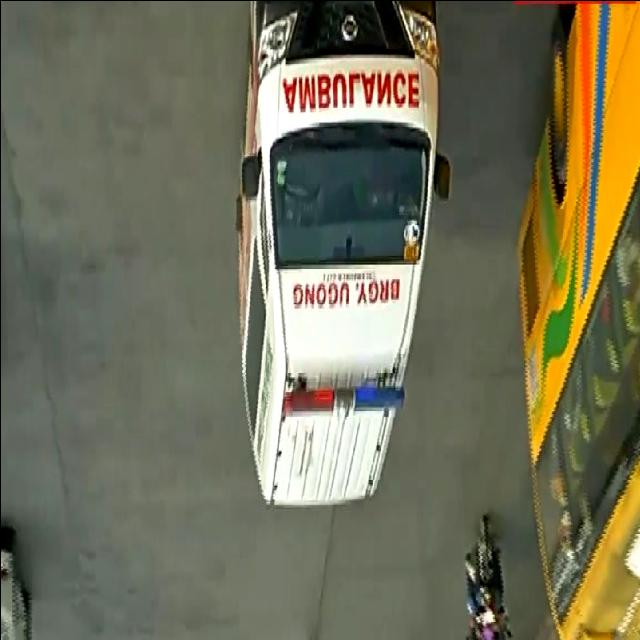emergency: (232, 3, 456, 517)
